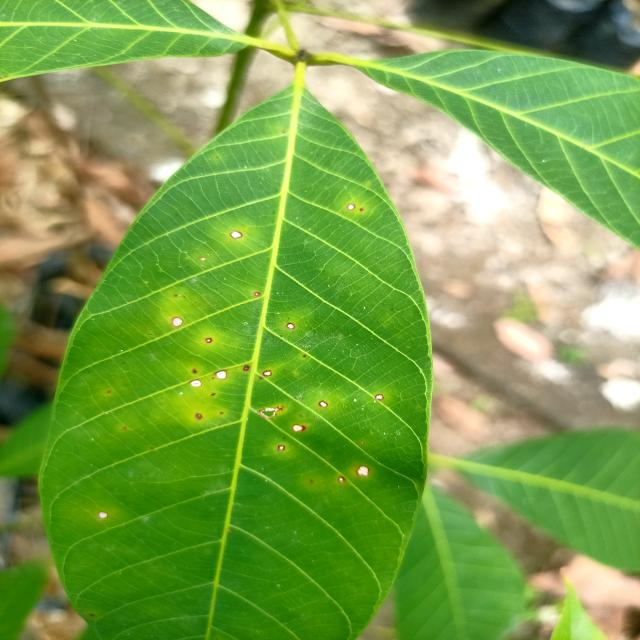Colletotrichum: (356, 466, 369, 476), (216, 370, 227, 380), (230, 231, 243, 239), (172, 317, 183, 326), (292, 424, 304, 432), (190, 379, 202, 387), (318, 400, 328, 408), (375, 394, 384, 401), (263, 370, 272, 377), (286, 323, 295, 329), (347, 204, 355, 210), (338, 476, 345, 482), (243, 366, 250, 372), (278, 445, 286, 450), (195, 414, 202, 419), (206, 338, 212, 343), (254, 292, 260, 296)
